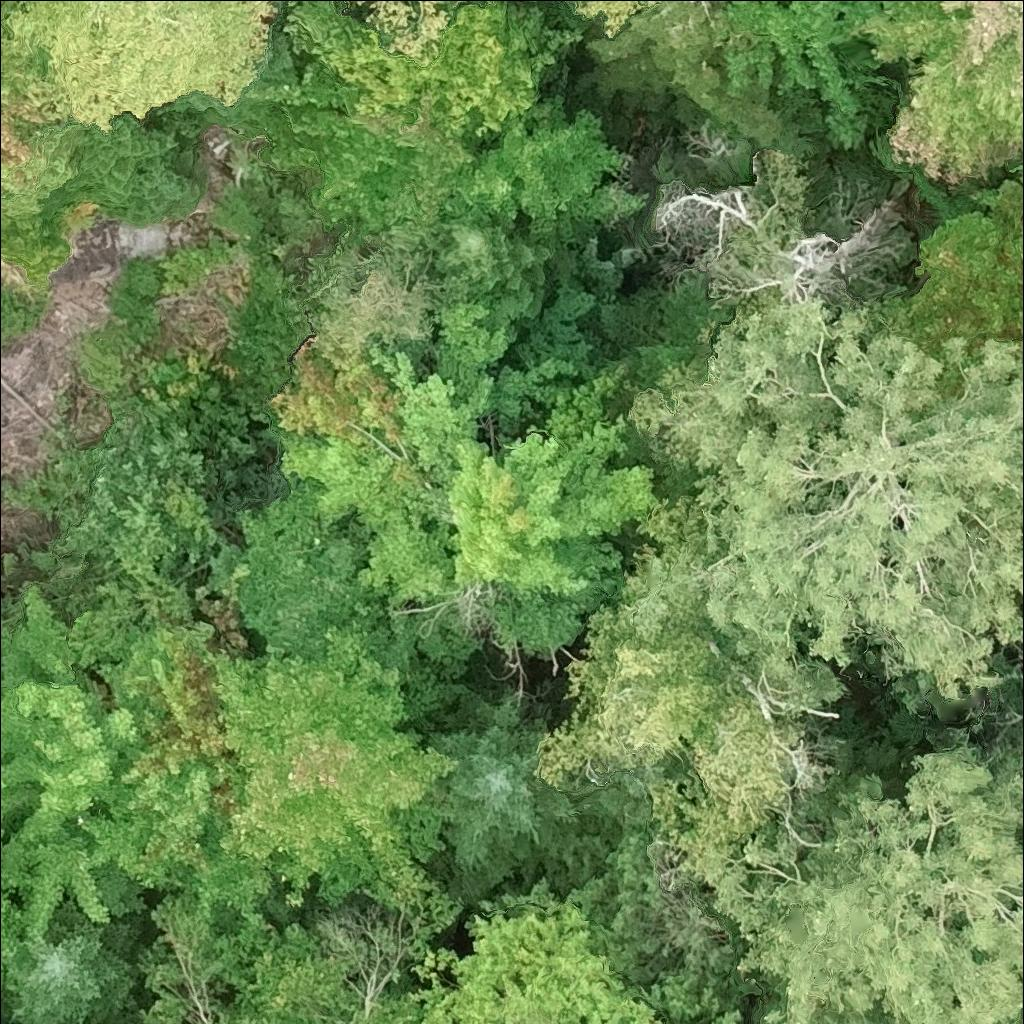crown: (612, 291, 1023, 703), (271, 340, 663, 661), (0, 567, 272, 1000), (663, 738, 1023, 1023), (202, 627, 455, 920), (538, 607, 791, 843), (255, 62, 476, 238), (276, 0, 538, 141), (231, 484, 418, 677), (8, 0, 269, 129), (426, 690, 583, 900), (574, 0, 794, 145), (407, 902, 670, 1023), (857, 0, 1023, 188), (707, 0, 893, 152), (888, 162, 1023, 357), (442, 98, 623, 240), (9, 890, 136, 1023), (144, 895, 274, 1023), (425, 204, 552, 323), (70, 113, 205, 220), (0, 39, 78, 199), (235, 929, 353, 1023), (426, 297, 522, 396), (341, 0, 461, 59), (567, 0, 661, 38), (372, 999, 419, 1023), (476, 0, 537, 6), (1015, 1011, 1023, 1023)
